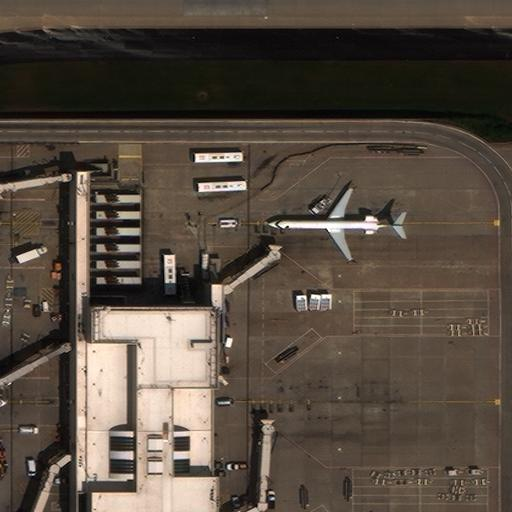Medium Civil Transport: (266, 188, 405, 261)
